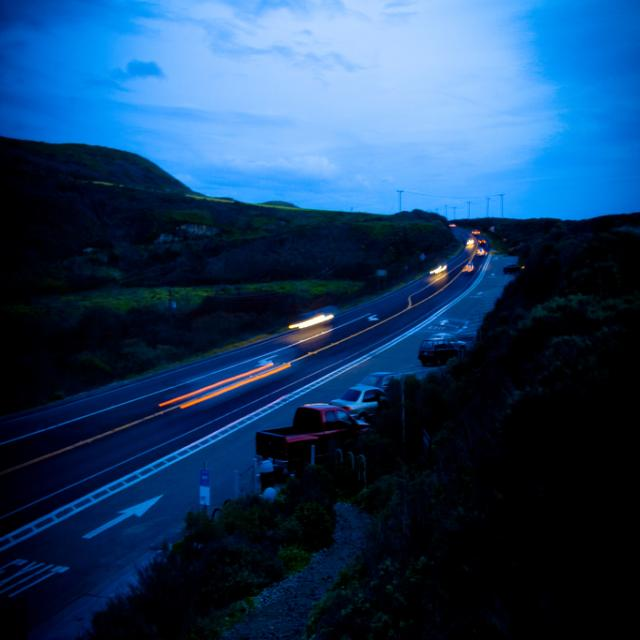car: (246, 410, 368, 493), (329, 373, 382, 417), (419, 327, 472, 369), (363, 364, 403, 388)
